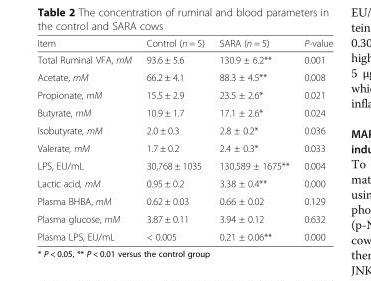table: (36, 37, 332, 241)
table column: (36, 37, 138, 241), (211, 37, 296, 241), (138, 37, 211, 241), (296, 37, 332, 241)
table column header: (36, 37, 332, 50)
table row: (36, 50, 332, 68), (36, 85, 332, 103), (36, 103, 332, 121), (36, 138, 332, 156), (36, 156, 332, 174), (36, 174, 332, 192), (36, 209, 332, 227), (36, 68, 332, 85), (36, 121, 332, 138), (36, 192, 332, 209), (36, 227, 332, 241), (36, 37, 332, 50)
